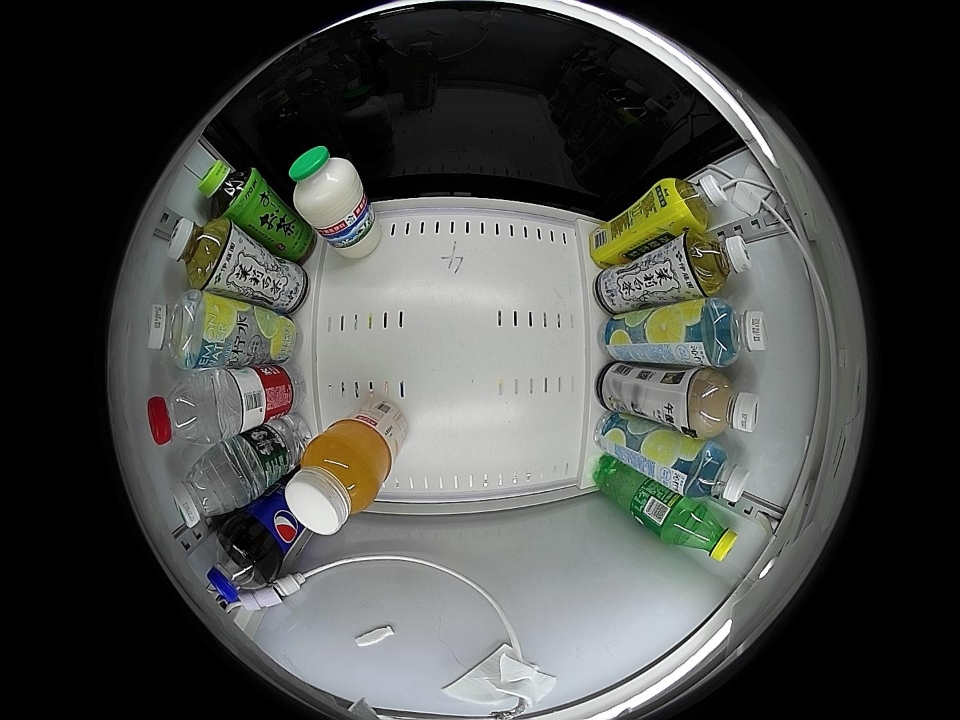baicha: (167, 217, 232, 288), (684, 231, 753, 295)
baishikele-2: (205, 528, 273, 603)
bingtangxueli: (659, 170, 727, 234)
liziyuan: (288, 144, 366, 228)
nongfushanquan: (147, 374, 218, 447)
qinningshui: (147, 291, 213, 369), (697, 298, 769, 367), (683, 441, 750, 505)
weic: (285, 421, 392, 535)
wuhounaicha: (687, 370, 761, 437)
xuebi-b: (669, 500, 739, 563)
yibao: (170, 454, 241, 528)
yitengyuan: (197, 159, 261, 220)
